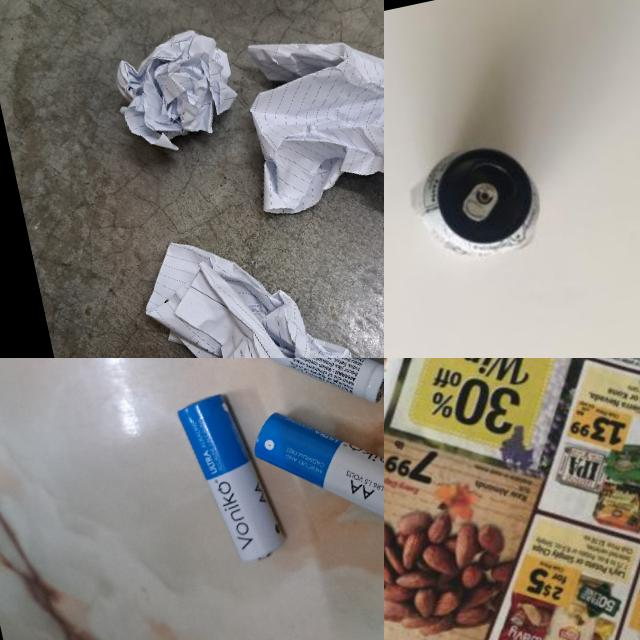aba de lata: (458, 182, 502, 224)
bateria: (247, 378, 384, 558), (174, 385, 291, 571), (231, 358, 384, 429)
lata: (410, 138, 550, 270)
papel: (384, 358, 640, 640), (130, 200, 384, 358), (232, 1, 384, 257), (101, 18, 247, 162)
